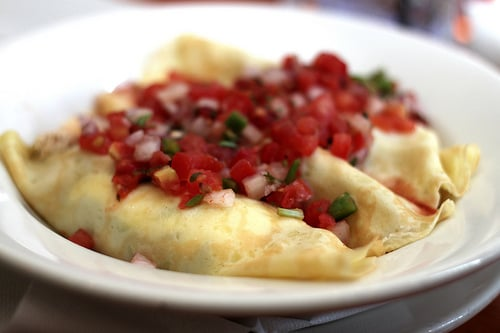sandwich: (8, 34, 496, 281)
